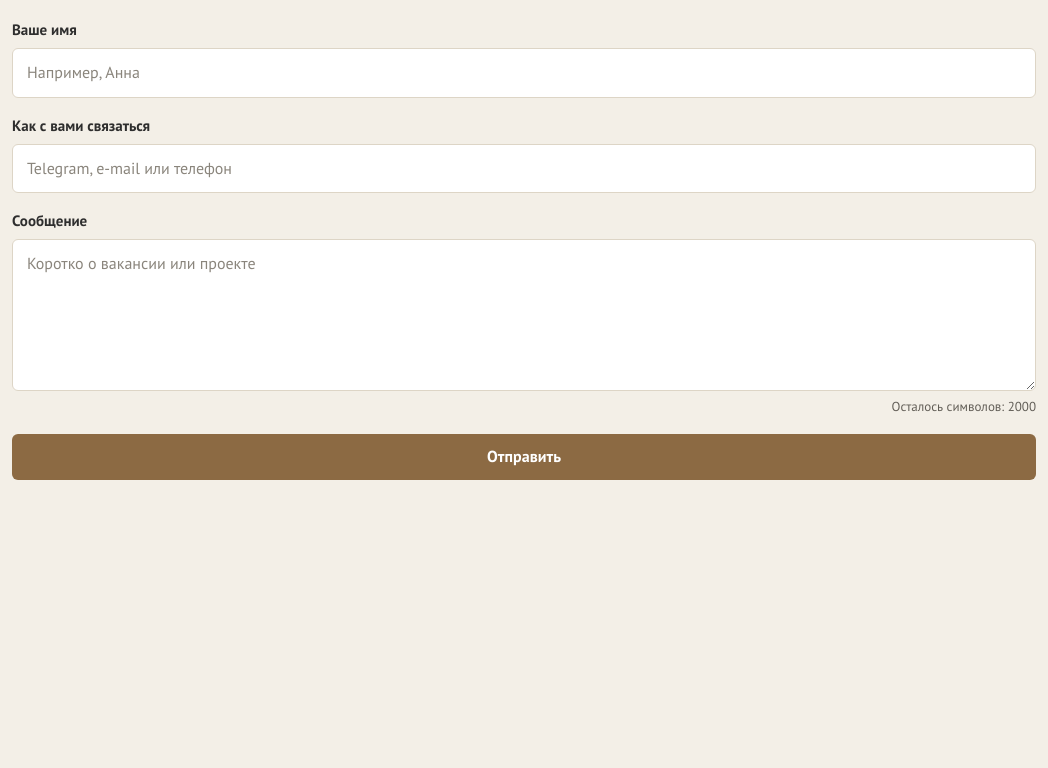
Test: ContactForm › показывает ошибки и не отправляет пустую форму
Click the button "Отправить": (524, 457) left=12, top=434, right=1036, bottom=480
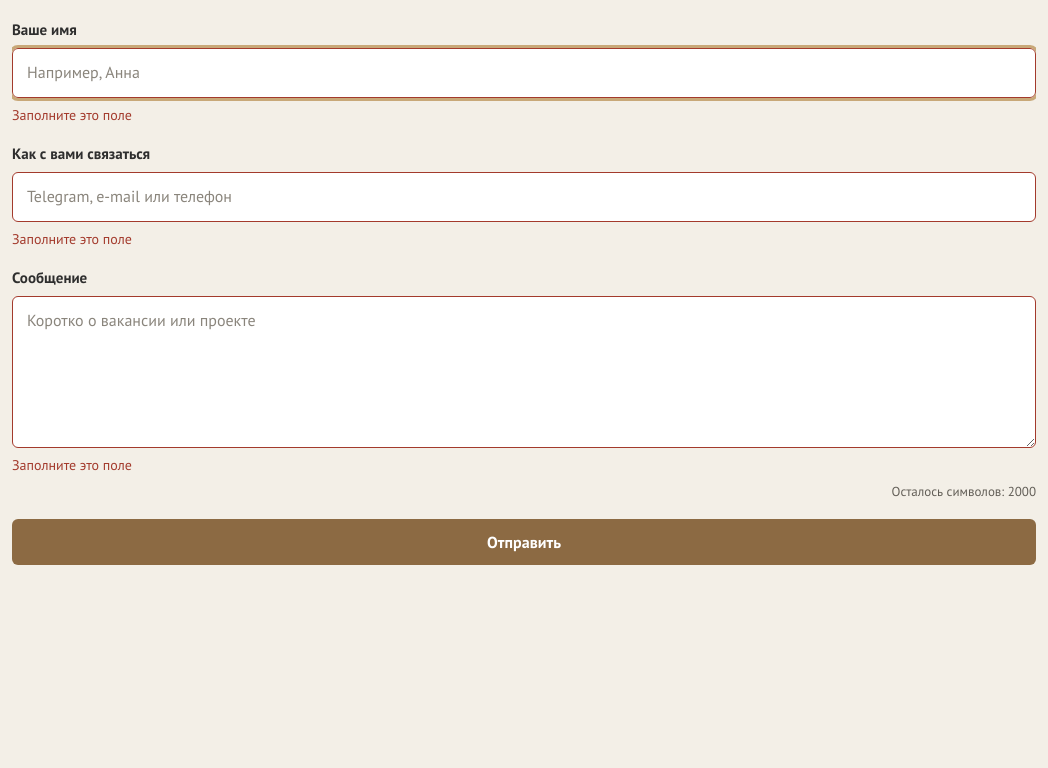
Check: the text "Заполните это поле" is shown 3 times, box left=12, top=106, right=132, bottom=124; left=12, top=230, right=132, bottom=248; left=12, top=456, right=132, bottom=474
